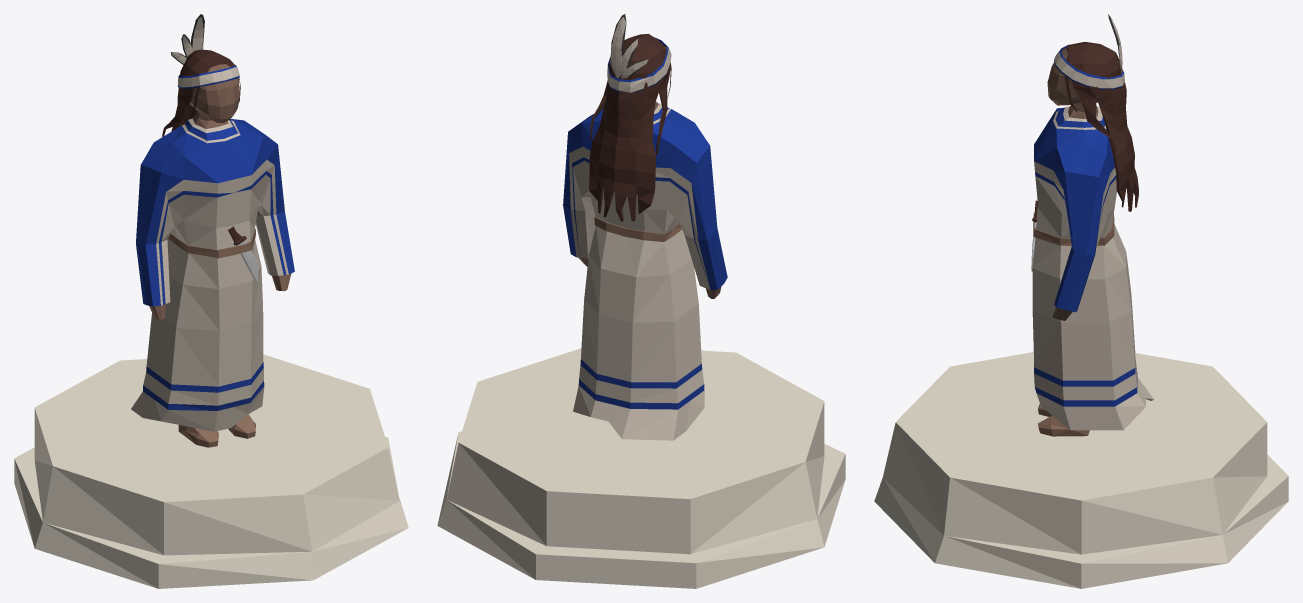
The model's file is native.fbx.
3 renders of one model, left to right at view 1: azimuth 30°, elevation 25°; view 2: azimuth 150°, elevation 25°; view 3: azimuth 270°, elevation 25°, orthographic. The views are drawn at different scales.
Visible parts, largest first — view 1: native; view 2: native; view 3: native.
Boxes of the visible parts, <box> form: native: <box>14,14,408,588</box>; native: <box>437,14,845,588</box>; native: <box>874,14,1288,588</box>.
Bounding box in the file's own units: 200 × 260 × 200.
